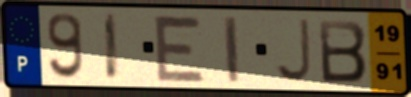9: (45, 11, 86, 81)
B: (315, 18, 369, 85)
E: (151, 12, 208, 85)
I: (222, 14, 242, 85), (103, 11, 121, 83)
J: (272, 17, 313, 84)
